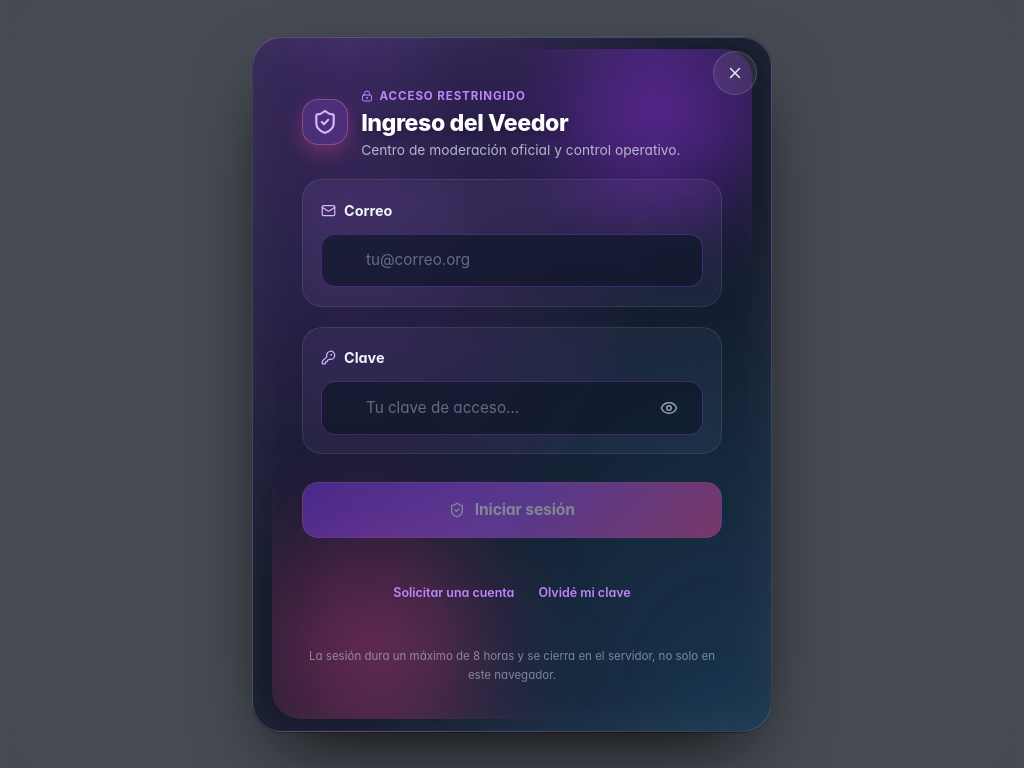
Test case: SeccionVeedor — ingreso emergente › restablece la clave dentro del modal, sin cambiar de pantalla
Click the button "Olvidé mi clave" at (584, 593), box top-left (534, 571), bottom-right (635, 615)
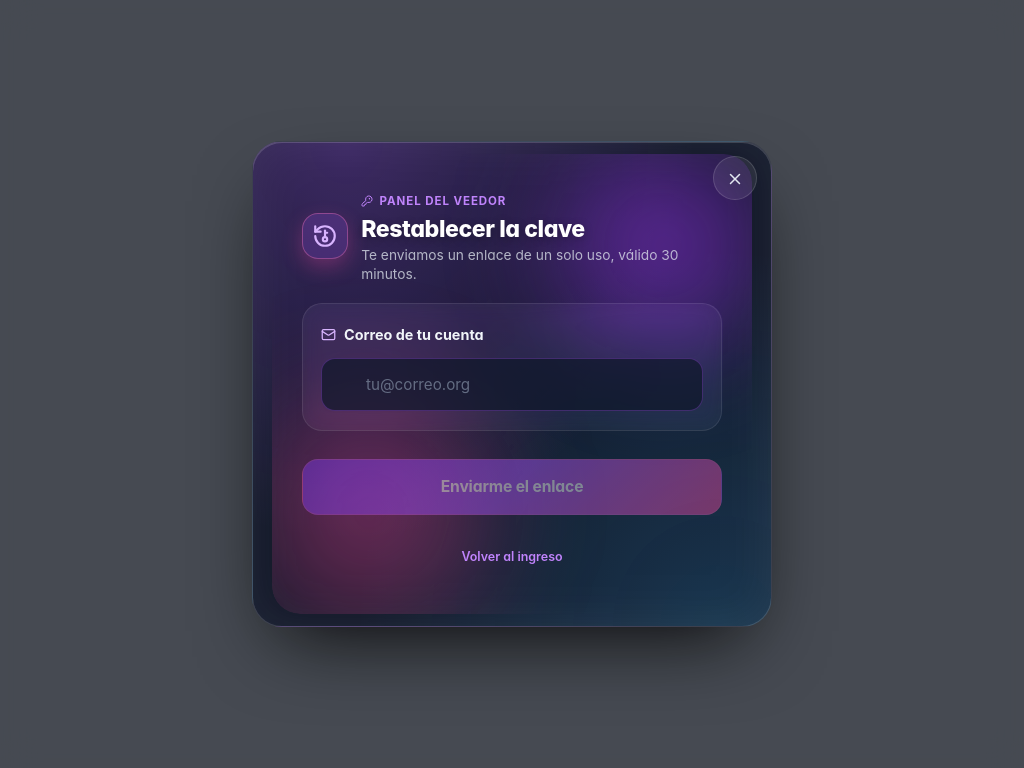
Check: the heading "Restablecer la clave" is shown, box top-left (361, 215), bottom-right (585, 243)
Check: the field labelled "Correo de tu cuenta" is shown, box top-left (321, 358), bottom-right (703, 411)
